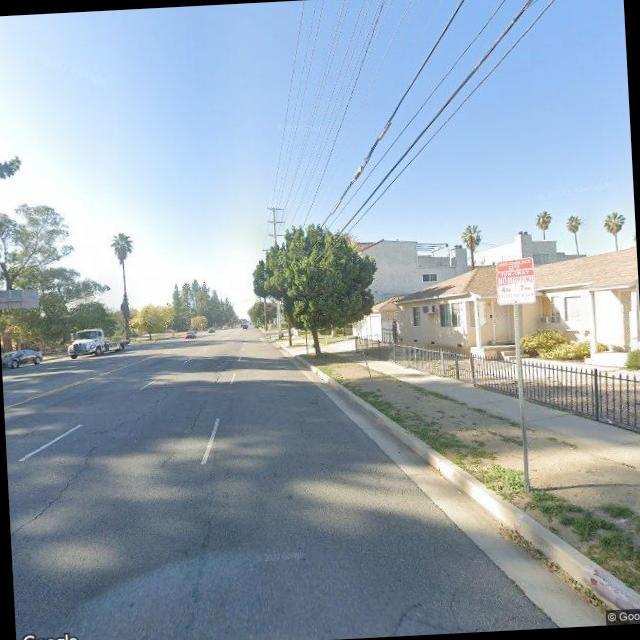pothole: (7, 447, 98, 557), (183, 398, 207, 433)
